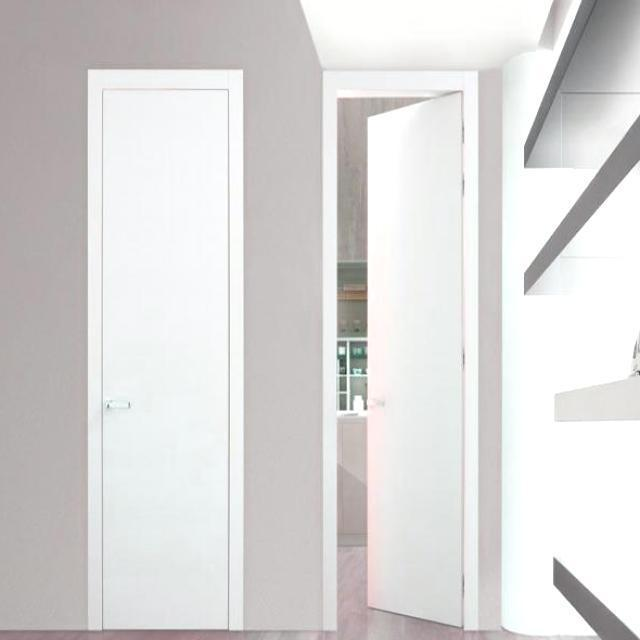door: (90, 68, 241, 630), (365, 90, 464, 627)
